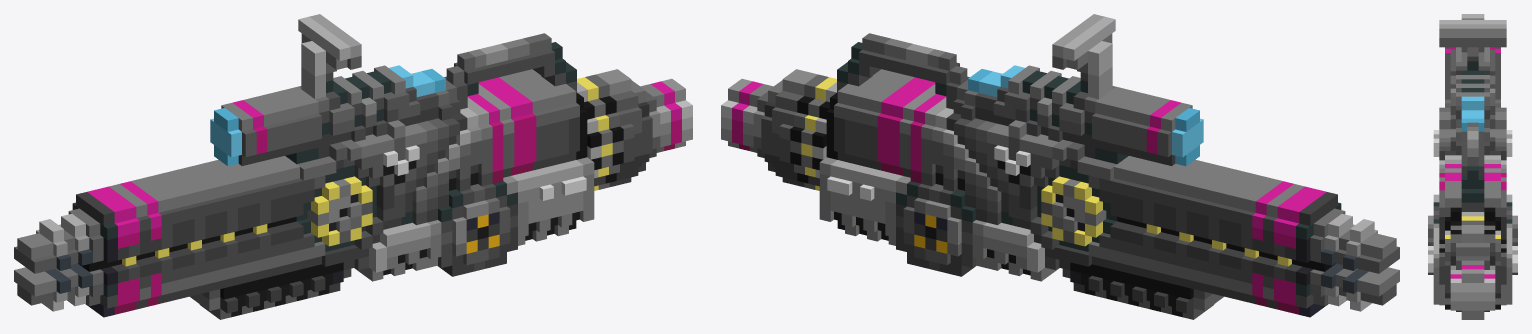
Rendered from Cannon_WWW_Jiofrax.obj.
The picture shows the model from 3 angles, left to right: view 1: azimuth 30°, elevation 25°; view 2: azimuth 150°, elevation 25°; view 3: azimuth 270°, elevation 25°; orthographic projection. The views are drawn at different scales.
Bounding box in the file's own units: 60 × 22 × 8.8.
